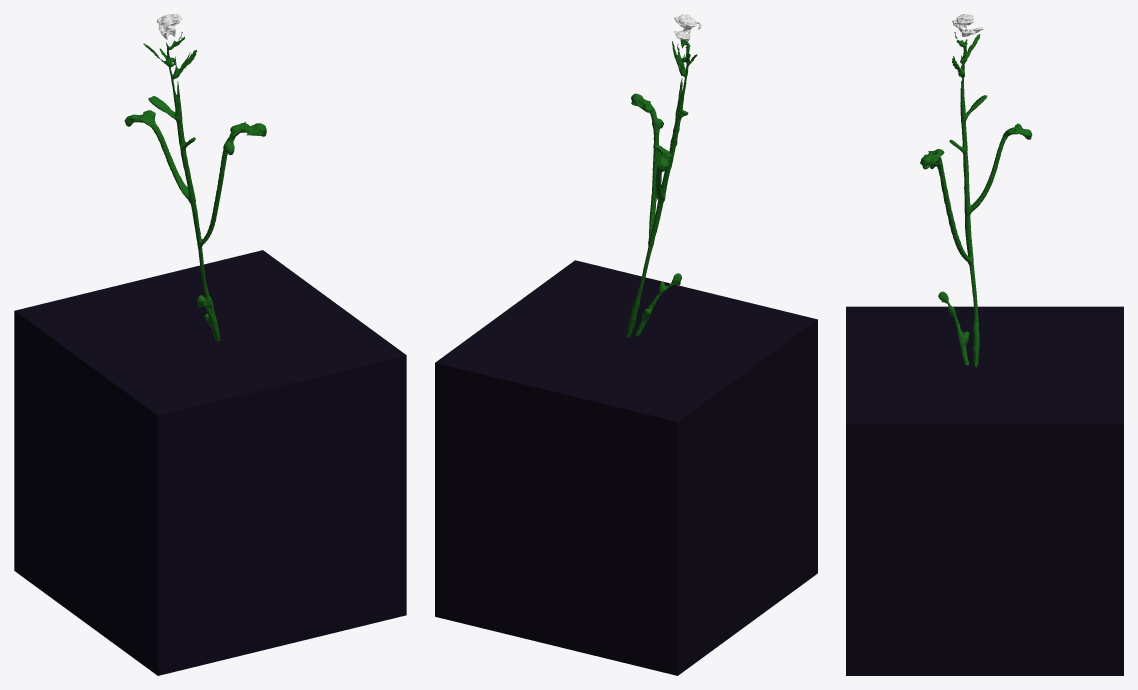
The model's file is kusa.gltf.
3 renders of one model, left to right at view 1: azimuth 30°, elevation 25°; view 2: azimuth 150°, elevation 25°; view 3: azimuth 270°, elevation 25°, orthographic. The views are drawn at different scales.
Visible parts, largest first — view 1: Cube, g9; view 2: Cube, g9; view 3: Cube, g9.
Boxes of the visible parts, bbox=[...] form: Cube: bbox=[14, 250, 406, 675]; g9: bbox=[124, 14, 266, 341]; Cube: bbox=[435, 260, 817, 675]; g9: bbox=[626, 14, 702, 337]; Cube: bbox=[846, 306, 1123, 675]; g9: bbox=[920, 14, 1032, 367].
Bounding box in the file's own units: 2 × 4.59 × 2.
